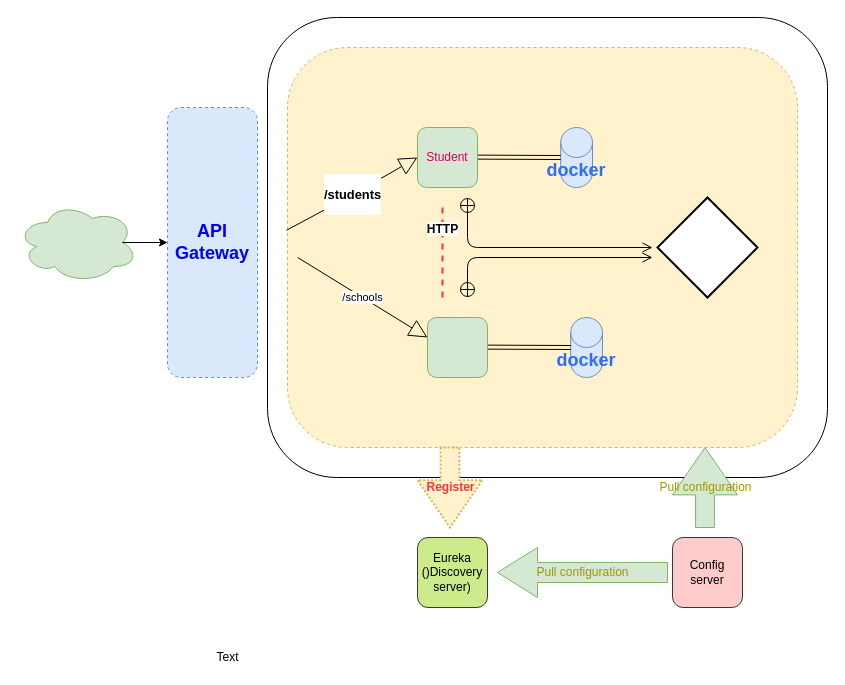
This 845x685 diagram has some shape labels left out. Each missing label, with the centre of its shape:
"Internet" belongs at (77,242).
"School" belongs at (457,347).
"Zipkin" belongs at (707,247).
